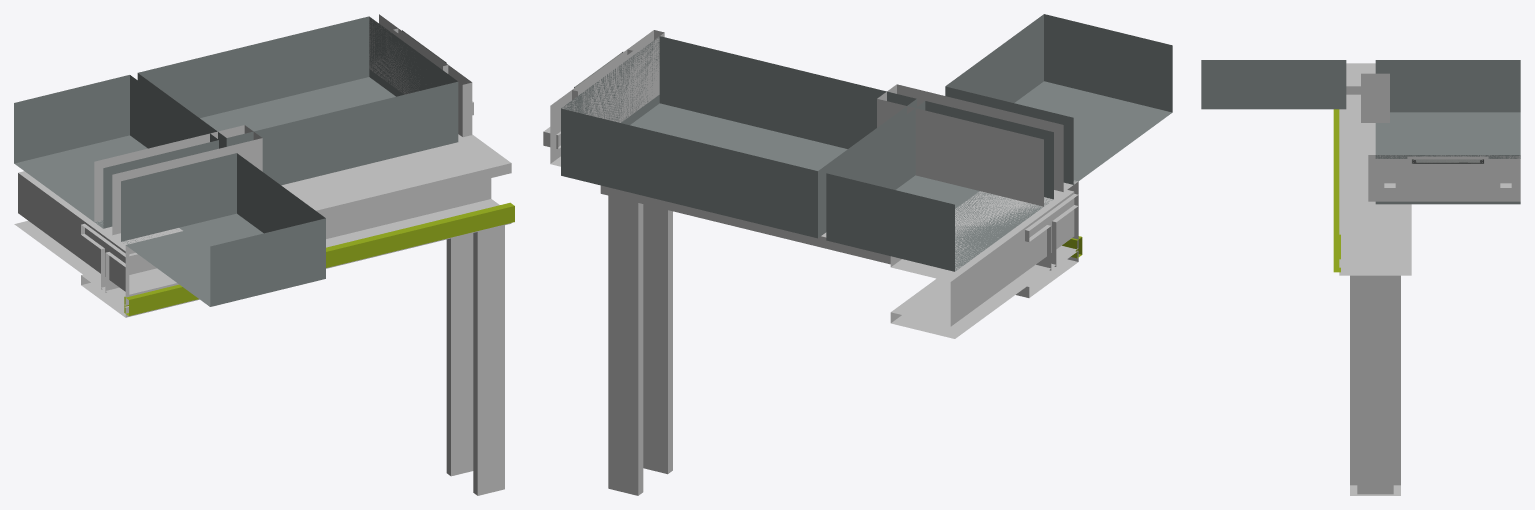
File: cell_19.obj
3 renders of one model, left to right at view 1: azimuth 30°, elevation 25°; view 2: azimuth 150°, elevation 25°; view 3: azimuth 270°, elevation 25°, orthographic. The views are drawn at different scales.
Size of the model in its own units: 1 by 1 by 0.88.
